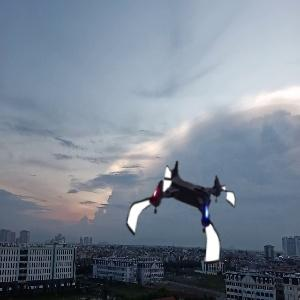drone: (125, 156, 238, 269)
